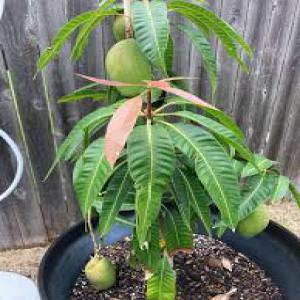Tree: (48, 6, 281, 291)
